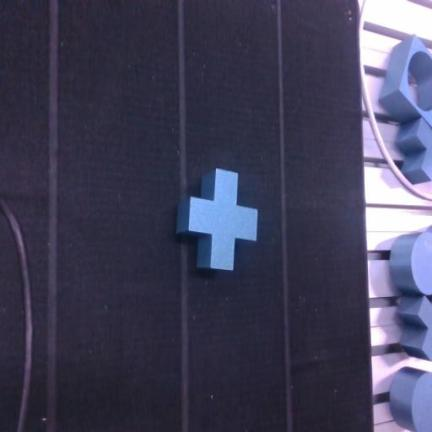cross: (177, 169, 257, 269)
